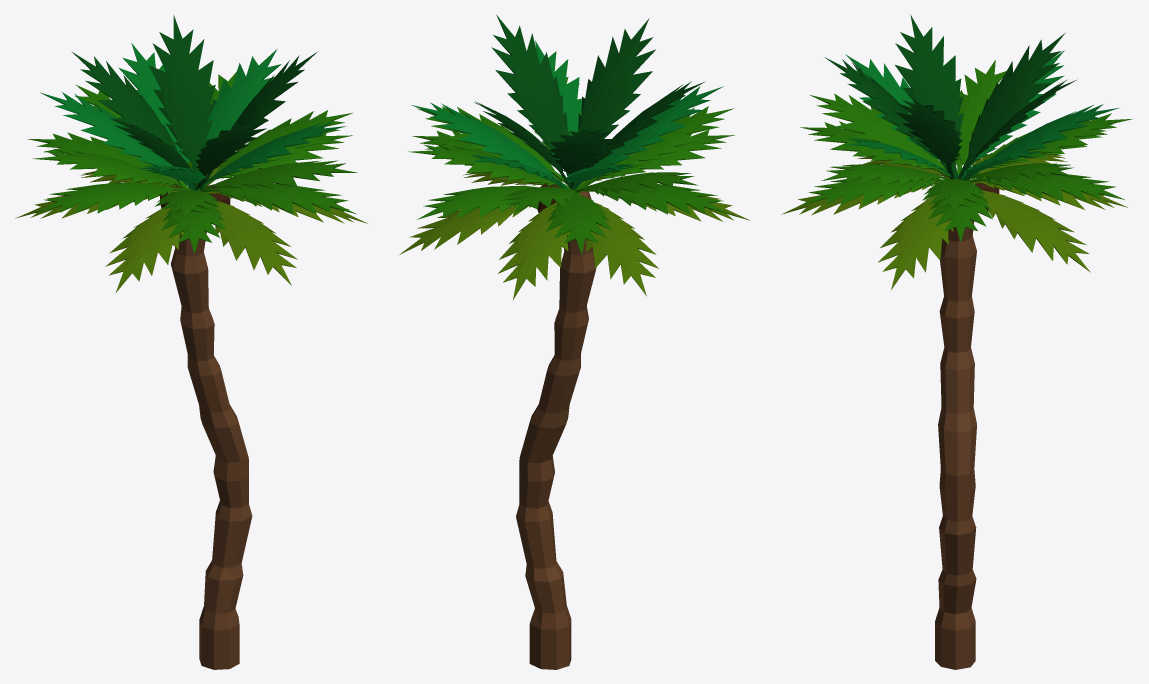
The model's file is Palme1.fbx.
The picture shows the model from 3 angles, left to right: view 1: azimuth 30°, elevation 25°; view 2: azimuth 150°, elevation 25°; view 3: azimuth 270°, elevation 25°; orthographic projection. The views are drawn at different scales.
Parts seen in each view (by area): view 1: Palme1; view 2: Palme1; view 3: Palme1.
Part boxes in pixels (x1,y1,x2,y2): Palme1: (15, 15, 367, 669); Palme1: (399, 15, 750, 669); Palme1: (781, 14, 1133, 669).
Size of the model in its own units: 506 by 920 by 493.
